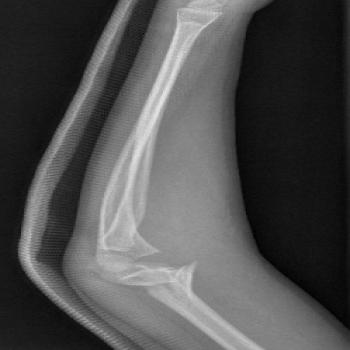Fracture: (132, 244, 206, 278)
